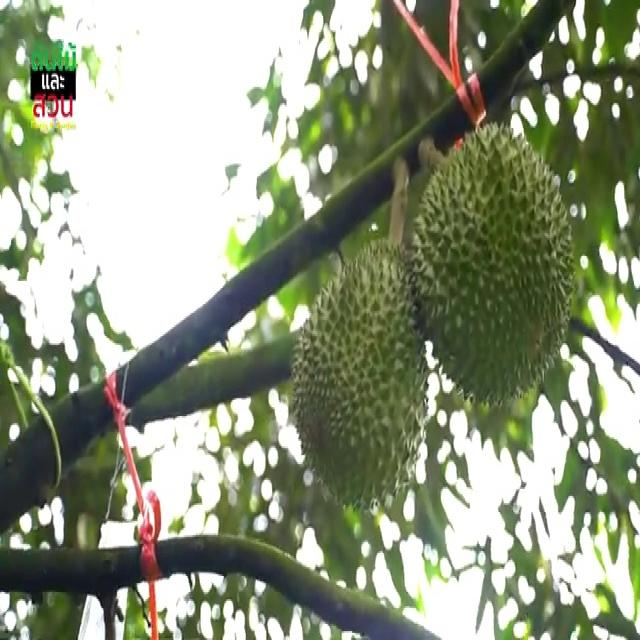durian: (410, 120, 577, 414), (285, 231, 434, 520)
